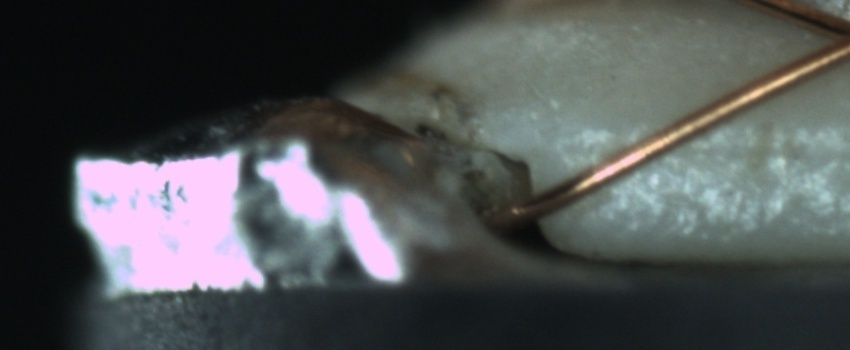CL: (803, 5, 850, 69)
DL: (625, 111, 850, 182)
